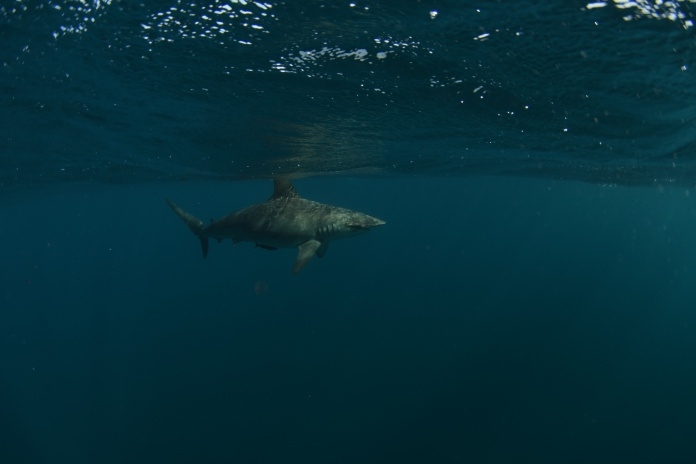Hammer: (108, 150, 434, 310)
